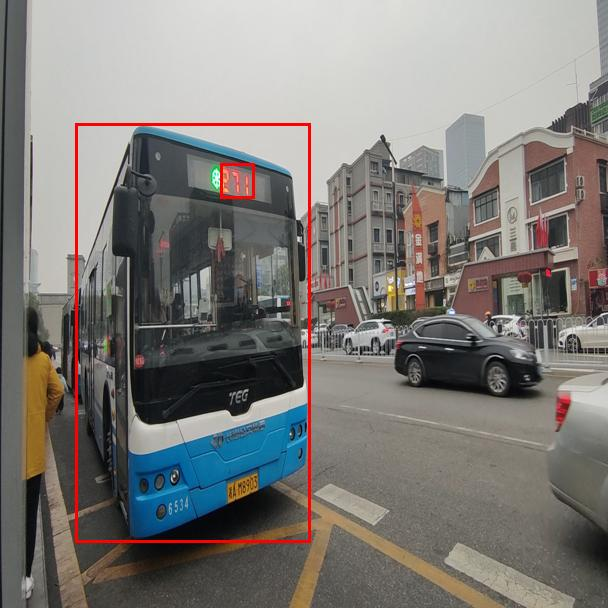bus: (75, 123, 310, 542)
screen: (220, 163, 254, 198)
